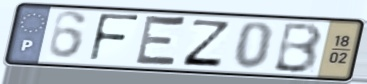0: (232, 19, 276, 72)
6: (46, 8, 90, 65)
B: (270, 21, 325, 76)
E: (132, 12, 189, 70)
F: (86, 11, 142, 65)
Z: (179, 18, 233, 69)
